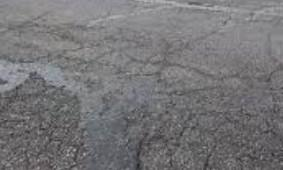alligator-crack: (124, 97, 283, 170), (2, 71, 88, 169), (125, 56, 283, 93), (1, 23, 122, 67), (123, 23, 190, 56)
crack: (191, 15, 235, 44), (239, 12, 281, 29)
